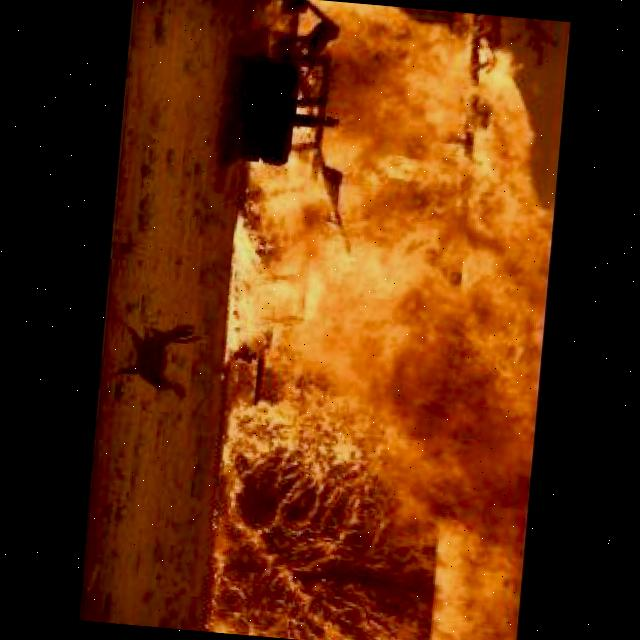fire: (199, 178, 549, 640), (290, 2, 546, 240)
